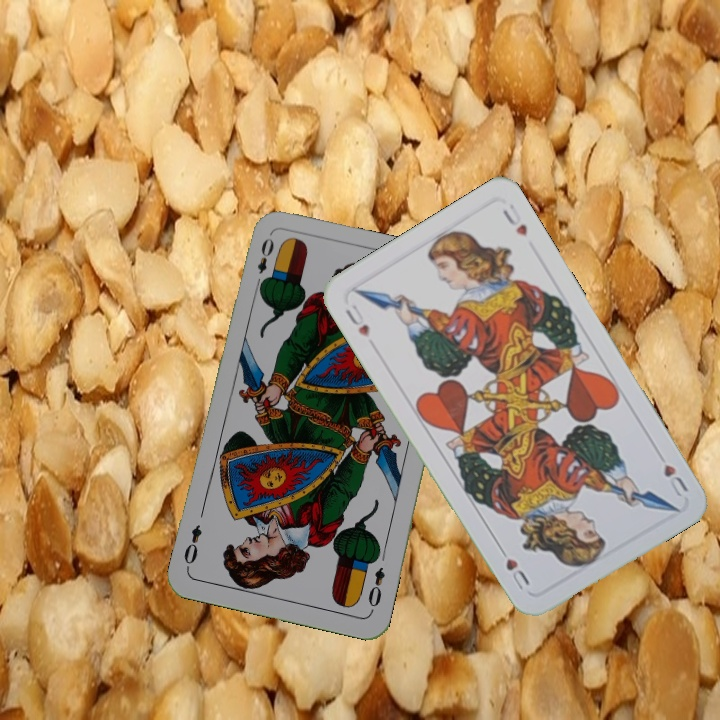EO: (252, 234, 277, 291), (364, 563, 388, 615)
HU: (659, 460, 691, 500), (341, 300, 372, 341)
